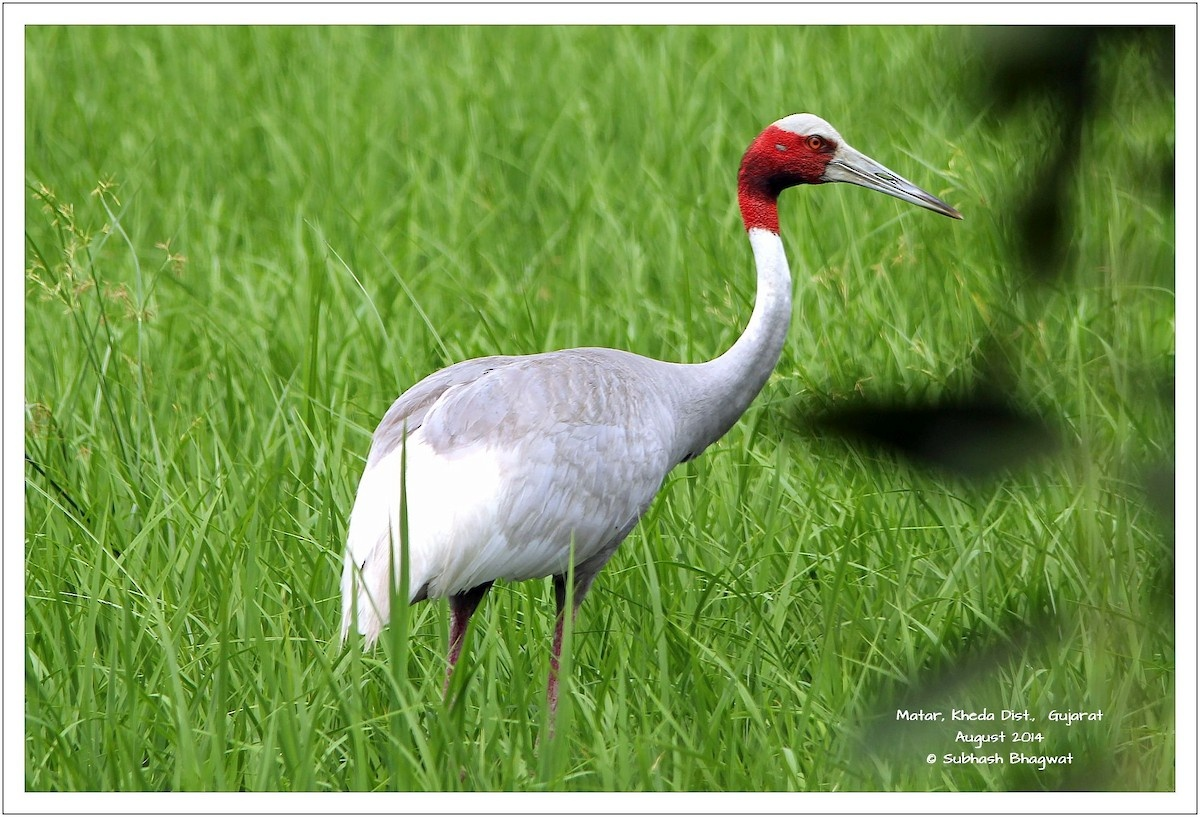crane: (312, 110, 971, 696)
